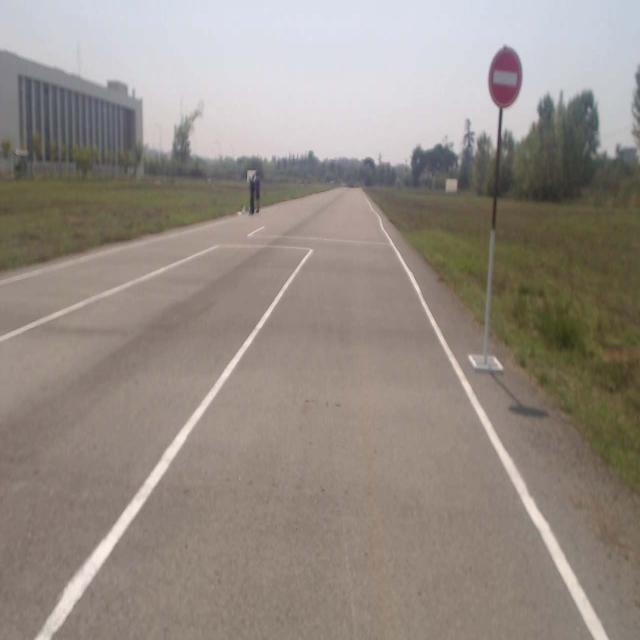girisyok: (486, 47, 526, 110)
